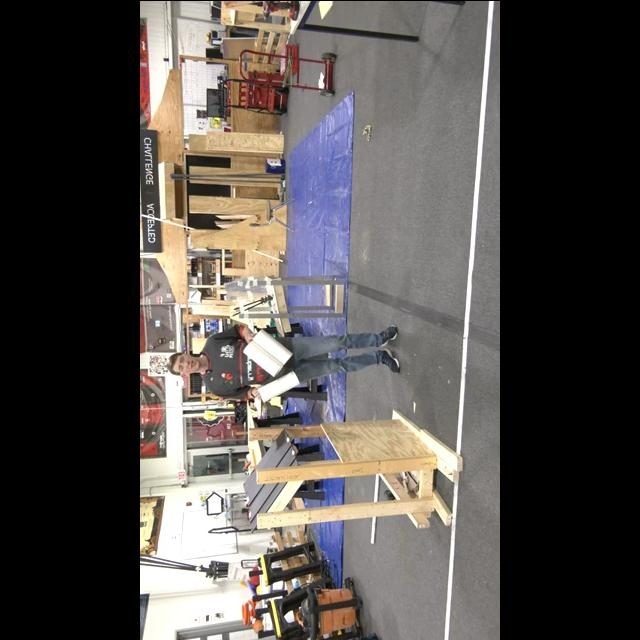CORAL: (256, 370, 300, 402), (243, 340, 283, 374), (254, 330, 292, 364)
